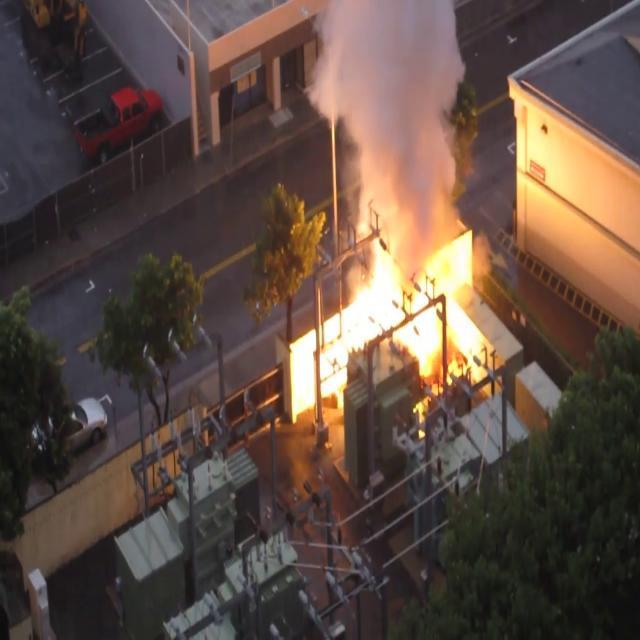Fire: (286, 197, 494, 407)
Smoke: (313, 0, 476, 221)
